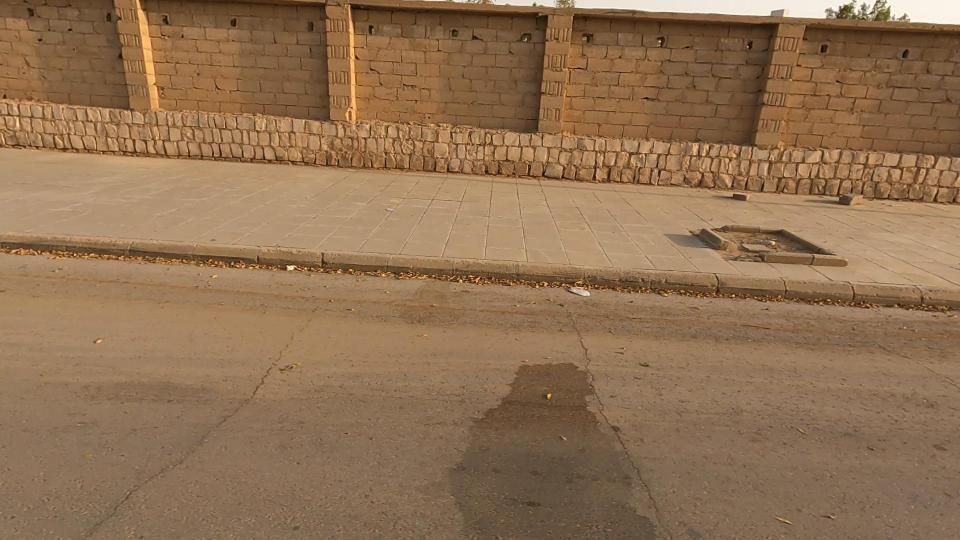GARBAGE: (220, 220, 363, 308), (495, 249, 650, 328)
UNKEPT_FACADE: (592, 149, 930, 322)
